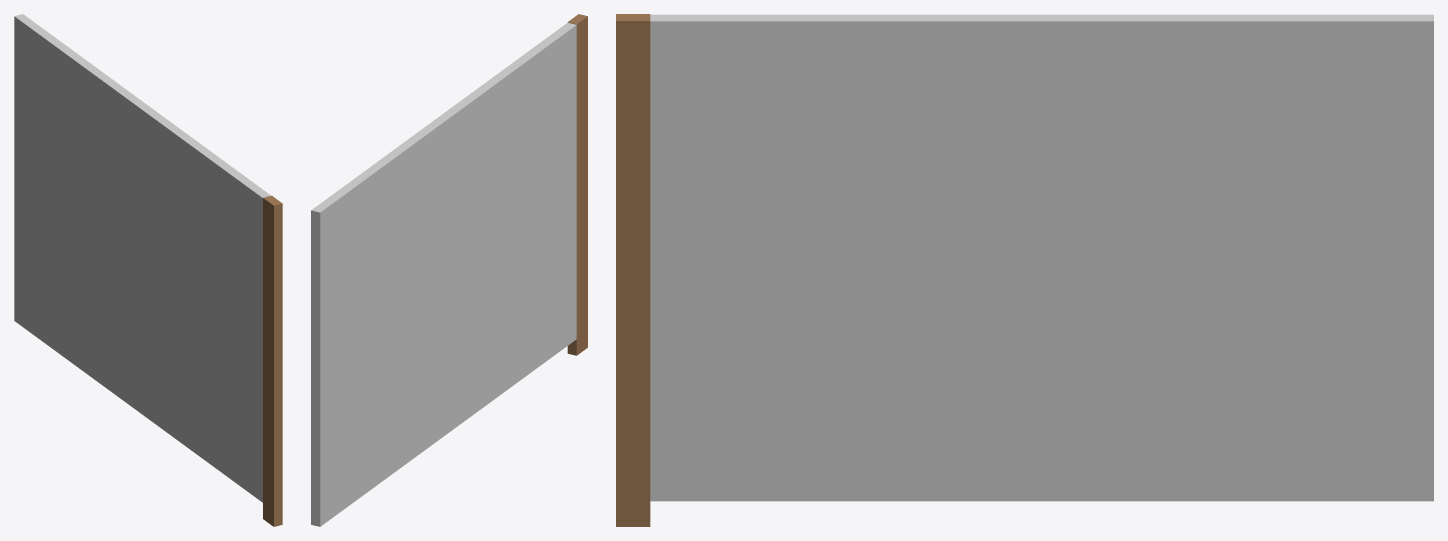
File: Kitchen Cabinets_Base End Panel.obj
3 views of the same model, side by side, from view 1: azimuth 30°, elevation 25°; view 2: azimuth 150°, elevation 25°; view 3: azimuth 270°, elevation 25° (orthographic). The views are drawn at different scales.
Parts seen in each view (by area): view 1: RH_Panel_(9), Worktop_(9); view 2: RH_Panel_(9), Worktop_(9); view 3: RH_Panel_(9), Worktop_(9).
Boxes of the visible parts, left/top/right/bottom form: RH_Panel_(9): left=14, top=14, right=270, bottom=502; Worktop_(9): left=263, top=195, right=282, bottom=526; RH_Panel_(9): left=311, top=22, right=576, bottom=526; Worktop_(9): left=567, top=14, right=587, bottom=355; RH_Panel_(9): left=650, top=14, right=1433, bottom=501; Worktop_(9): left=616, top=14, right=650, bottom=526.
Bounding box in the file's own units: 0.0182 × 0.62 × 0.908.
